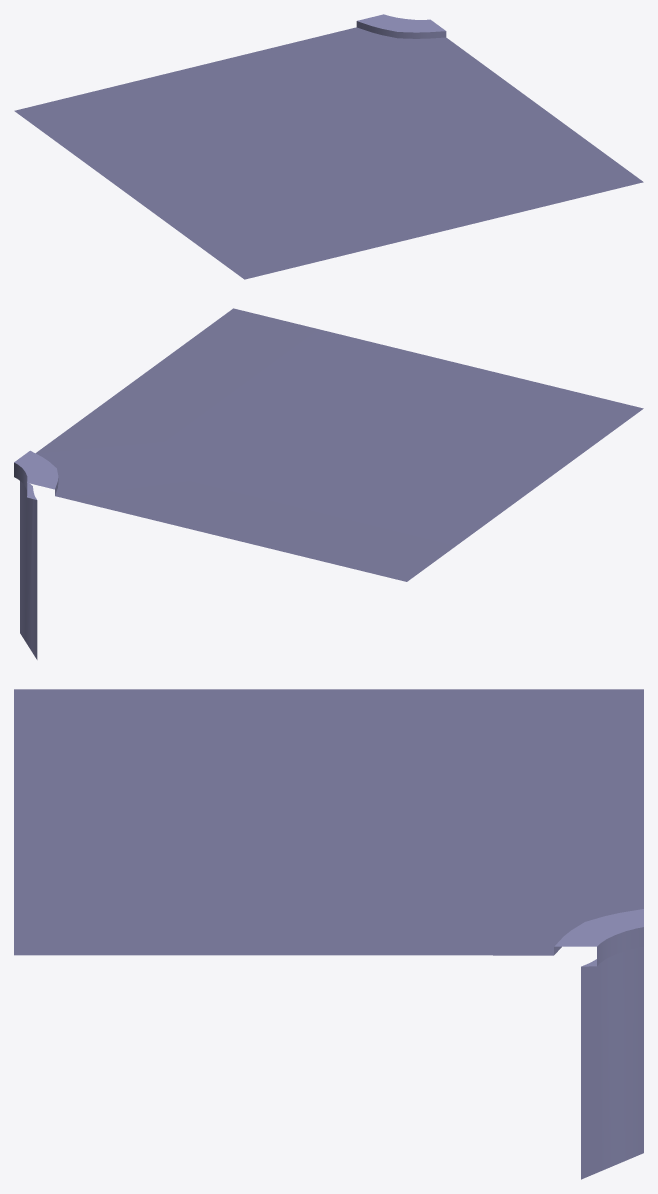
File: Wall_Inside_Corner_x1.fbx
3 renders of one model, top to bottom at view 1: azimuth 30°, elevation 25°; view 2: azimuth 150°, elevation 25°; view 3: azimuth 270°, elevation 25°, orthographic. The views are drawn at different scales.
Parts seen in each view (by area): view 1: Wall_Inside_Corner_x1; view 2: Wall_Inside_Corner_x1; view 3: Wall_Inside_Corner_x1.
Part boxes in pixels (x1=…): Wall_Inside_Corner_x1: x1=14, y1=14, x2=643, y2=279; Wall_Inside_Corner_x1: x1=14, y1=308, x2=643, y2=659; Wall_Inside_Corner_x1: x1=14, y1=689, x2=643, y2=1179.
Bounding box in the file's own units: 250 × 102 × 250.
